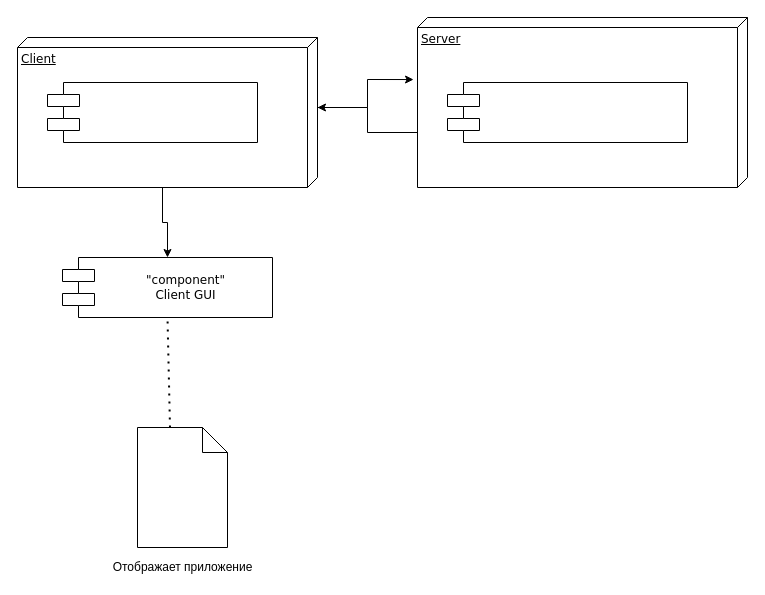
Some shapes in this 765 by 595 pixel diagram are drawn without their labels. Each missing label, with the centre of its shape:
"executable" FTP-AYE.exe: the point at 152,112
FTP-AYE.exe: the point at 567,112
